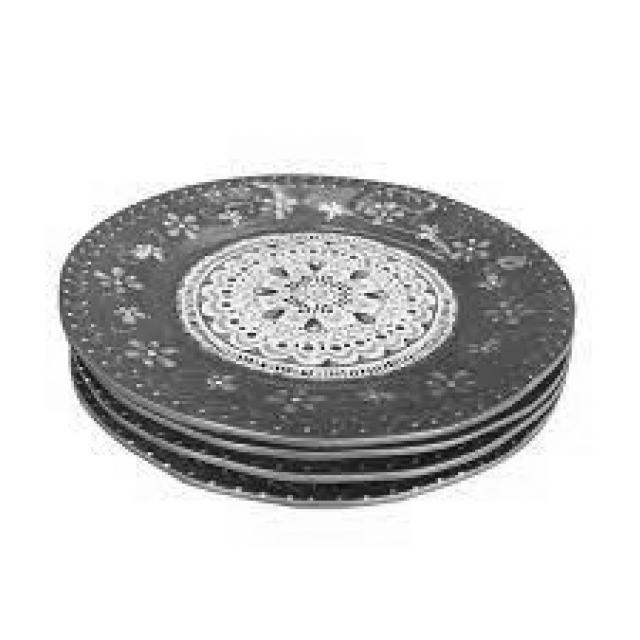dish: (36, 154, 606, 530)
